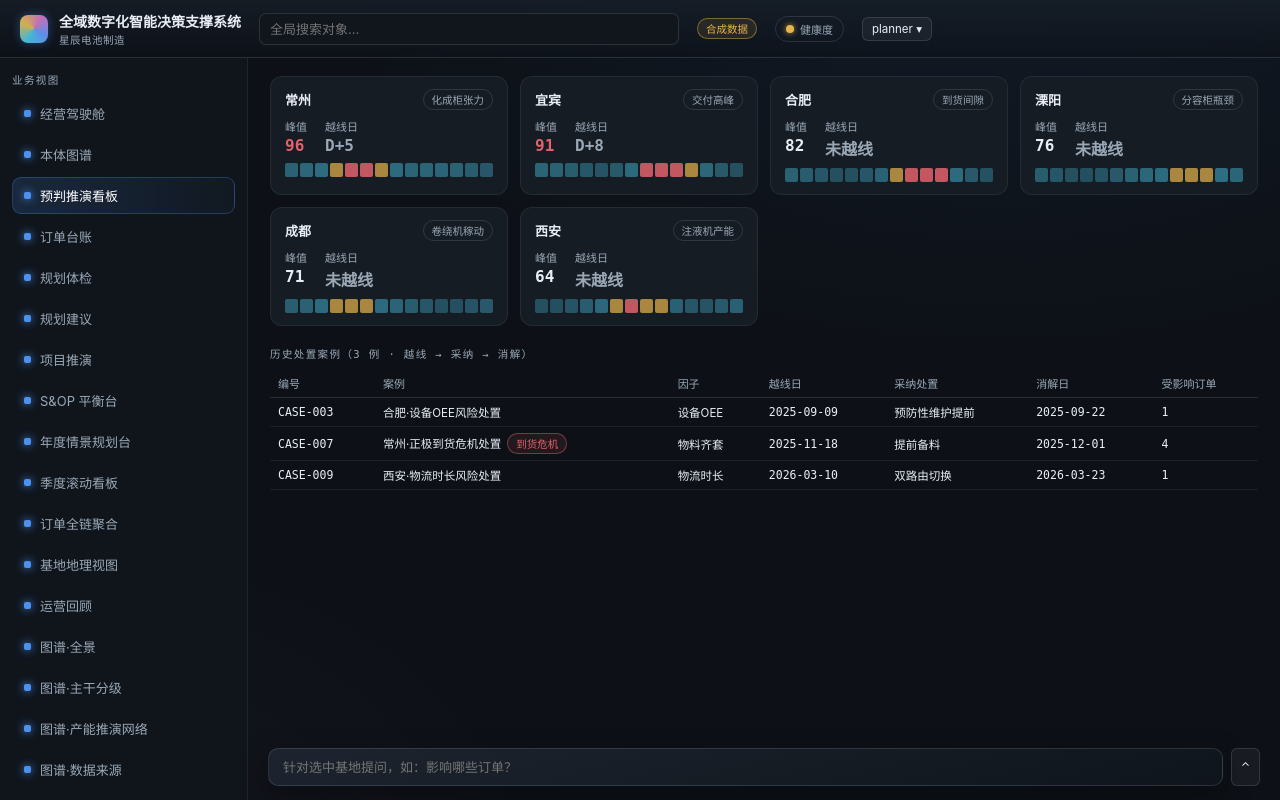
F37 · 运营态出厂配置（lived-in） › 风险视图：历史处置案例区（越线→采纳→消解），点击案例回放当时的时序曲线
Expected: the row with test id "risk-case-CASE-007" shows "到货危机", [516, 438, 558, 450]
Expected: the row with test id "risk-case-CASE-007" shows "提前备料", [894, 438, 940, 452]
Click the row with test id "risk-case-CASE-007".
click(764, 444)  # box [270, 426, 1258, 460]
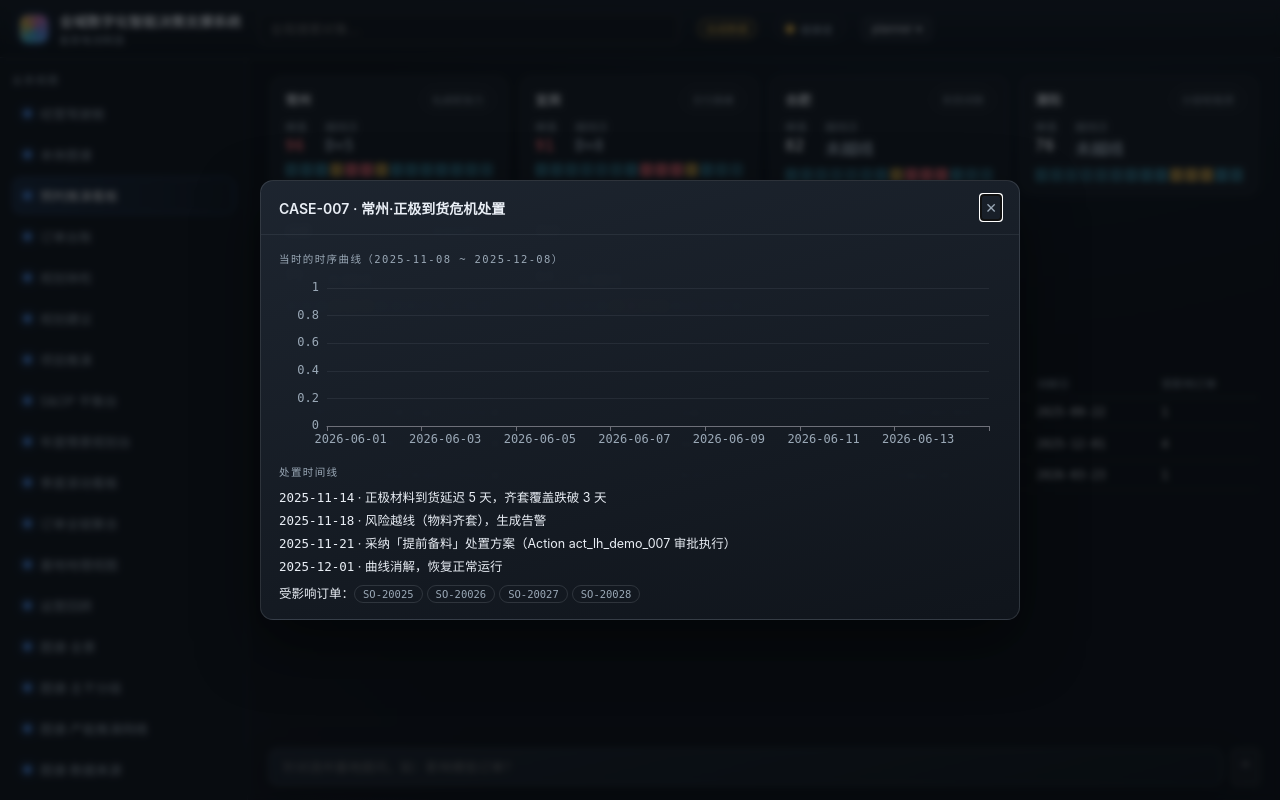
Expected: the element with test id "case-replay-curve" is shown, [279, 274, 1001, 454]
Expected: the element with test id "case-timeline" shows "风险越线", [365, 513, 546, 528]
Expected: the element with test id "case-timeline" shows "采纳「提前备料」处置方案", [365, 536, 736, 551]
